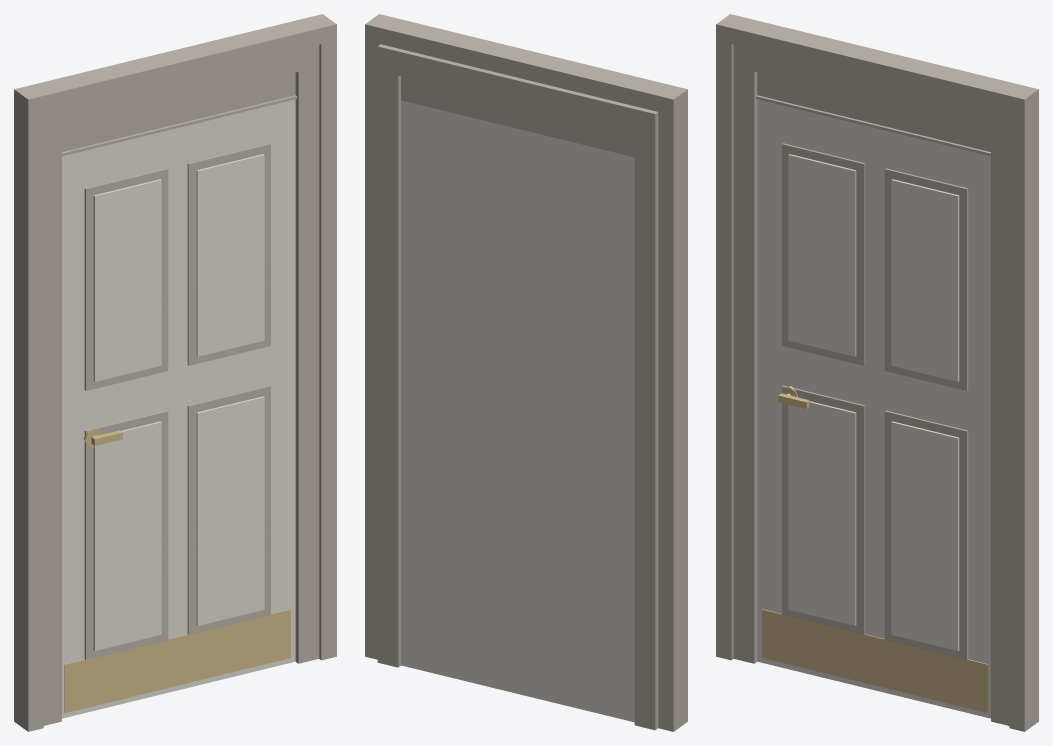
Rendered from CorridorDoor.fbx.
The picture shows the model from 3 angles, left to right: view 1: azimuth 30°, elevation 25°; view 2: azimuth 150°, elevation 25°; view 3: azimuth 330°, elevation 25°; orthographic projection.
Parts seen in each view (by area): view 1: CorridorDoor; view 2: CorridorDoor; view 3: CorridorDoor.
Boxes of the visible parts, bbox=[...] form: CorridorDoor: bbox=[14, 14, 336, 731]; CorridorDoor: bbox=[365, 14, 687, 731]; CorridorDoor: bbox=[716, 14, 1038, 731].
Size of the model in its own units: 1.2 by 2.35 by 0.13.
